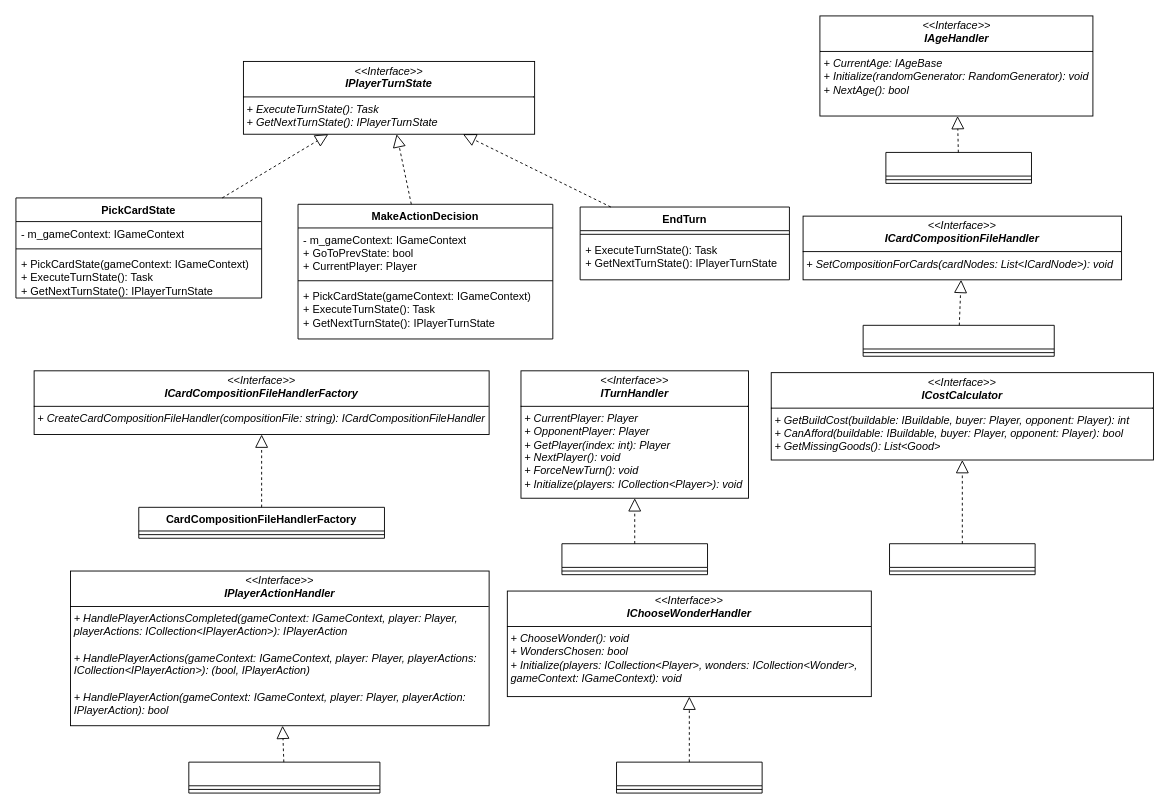
This 1169x809 diagram has some shape labels left out. Each missing label, with the centre of its shape:
AgeHandler: (x=958, y=167)
CardCompositionFileHandler: (x=958, y=340)
ChooseWonderHandler: (x=689, y=777)
CostCalculator: (x=962, y=559)
PlayerActionHandler: (x=284, y=777)
TurnHandler: (x=634, y=559)
